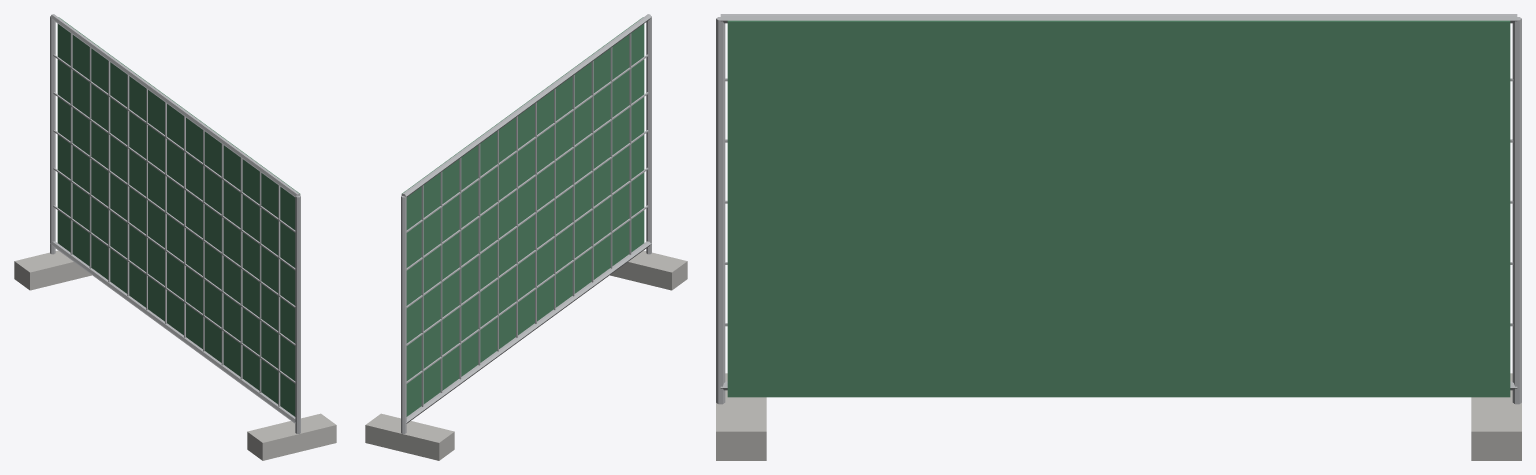
File: SM_Prop_SiteFenceTarp.fbx
3 views of the same model, side by side, from view 1: azimuth 30°, elevation 25°; view 2: azimuth 150°, elevation 25°; view 3: azimuth 270°, elevation 25° (orthographic). The views are drawn at different scales.
Visible parts, largest first — view 1: SM_Prop_SiteFenceTarp; view 2: SM_Prop_SiteFenceTarp; view 3: SM_Prop_SiteFenceTarp.
Boxes of the visible parts, <box> form: SM_Prop_SiteFenceTarp: <box>14,14,336,460</box>; SM_Prop_SiteFenceTarp: <box>365,14,687,460</box>; SM_Prop_SiteFenceTarp: <box>716,14,1521,460</box>.
Size of the model in its own units: 3.5 by 0.6 by 2.
